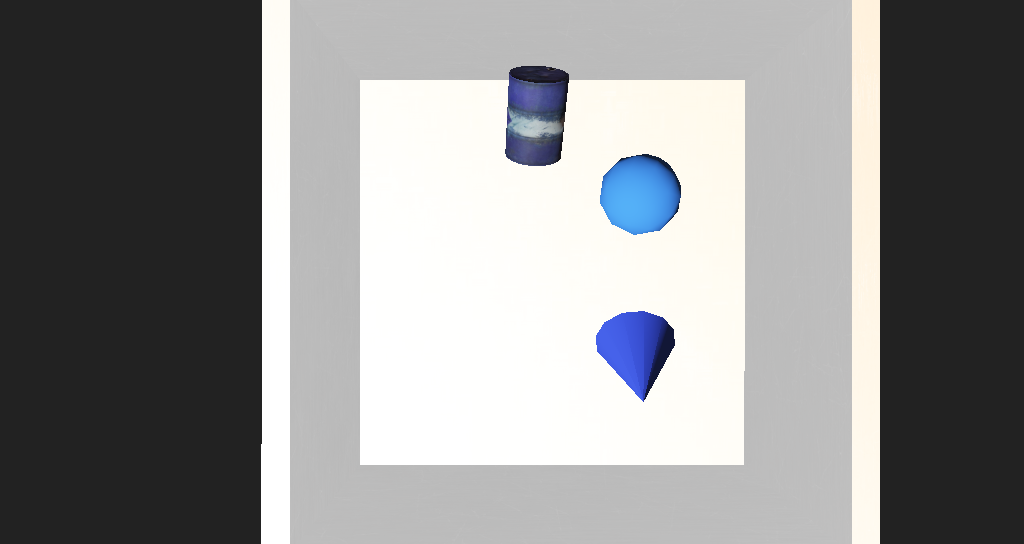cone: (468, 148, 515, 215)
cylinder: (532, 289, 613, 360)
sphere: (539, 200, 606, 248)
